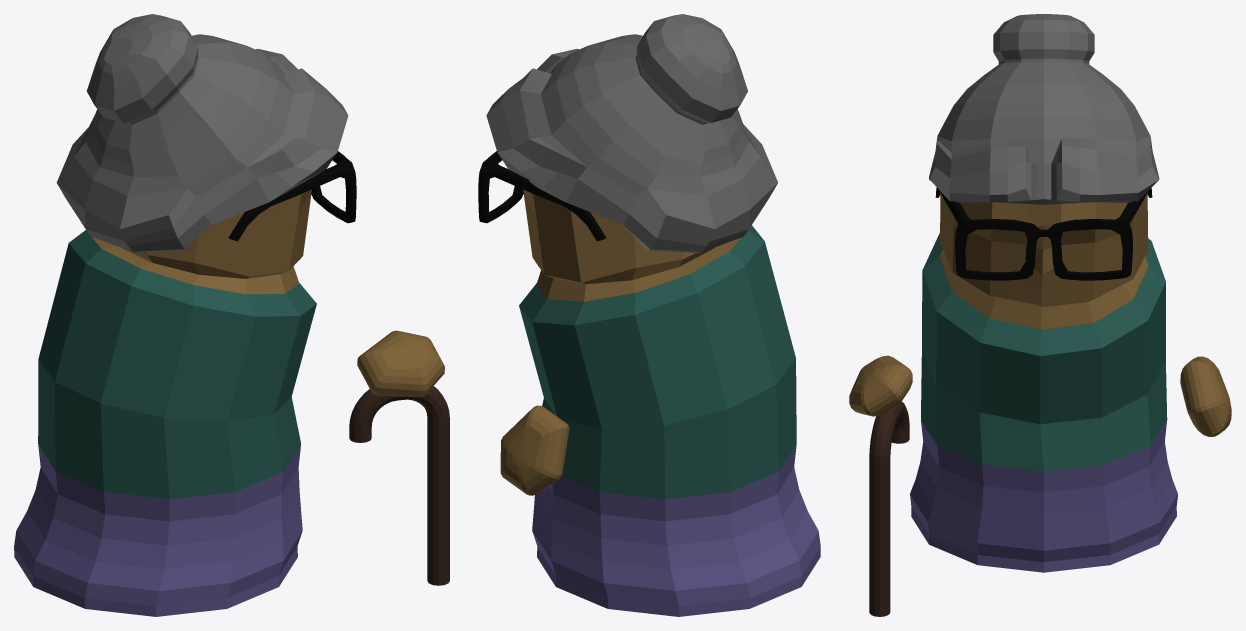
The model's file is Granny2.fbx.
3 renders of one model, left to right at view 1: azimuth 30°, elevation 25°; view 2: azimuth 150°, elevation 25°; view 3: azimuth 270°, elevation 25°, orthographic. The views are drawn at different scales.
Visible parts, largest first — view 1: Sphere; view 2: Sphere; view 3: Sphere.
Boxes of the visible parts, box(x1,y1,x2,y2) form: Sphere: box(14, 14, 449, 616); Sphere: box(478, 14, 820, 616); Sphere: box(849, 14, 1231, 616).
Bounding box in the file's own units: 336 × 534 × 363.
